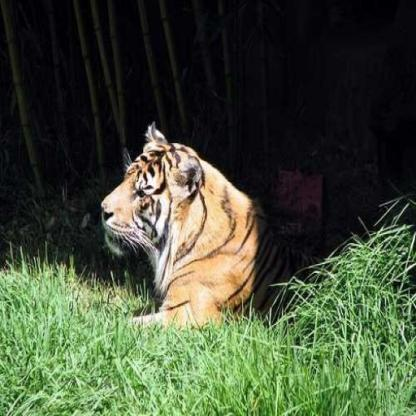Tiger: (85, 114, 276, 344)
